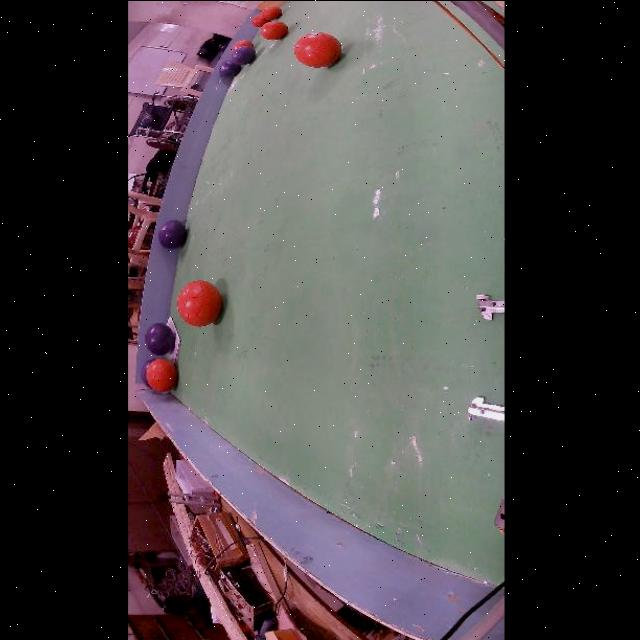P: (144, 322, 174, 355), (157, 219, 186, 248), (230, 45, 255, 64), (139, 358, 154, 388), (217, 60, 240, 77)
R: (177, 279, 221, 326), (293, 31, 340, 66), (145, 358, 175, 392), (259, 20, 287, 39), (260, 6, 281, 20), (230, 39, 253, 50), (250, 14, 266, 27)
